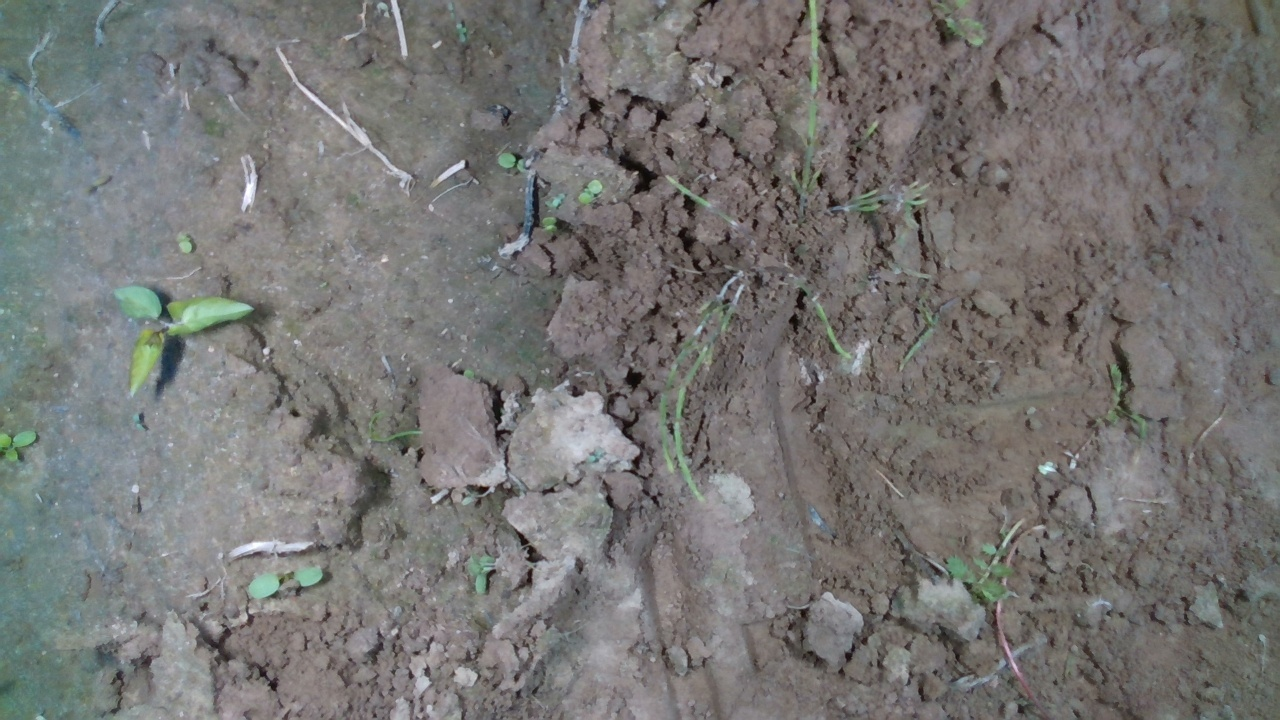weed: (246, 561, 324, 600), (496, 153, 532, 174), (578, 177, 604, 204), (176, 231, 196, 255), (540, 215, 559, 234)
